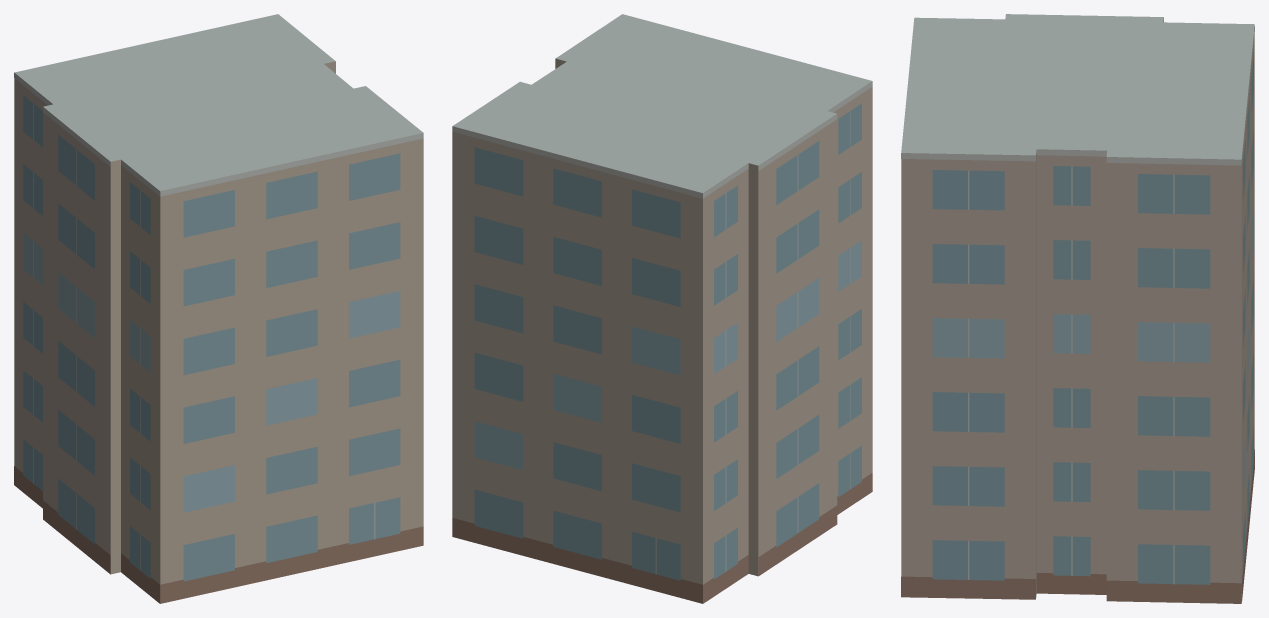
The model's file is survey-upis-32928255.glb.
3 views of the same model, side by side, from view 1: azimuth 30°, elevation 25°; view 2: azimuth 150°, elevation 25°; view 3: azimuth 270°, elevation 25° (orthographic). The views are drawn at different scales.
Visible parts, largest first — view 1: survey-upis-32928255.tmp; view 2: survey-upis-32928255.tmp; view 3: survey-upis-32928255.tmp.
Boxes of the visible parts, x1,y1,x2,y2 form: survey-upis-32928255.tmp: (14, 14, 423, 603); survey-upis-32928255.tmp: (452, 14, 872, 603); survey-upis-32928255.tmp: (901, 14, 1254, 603).
Size of the model in its own units: 12.87 by 18.3 by 13.21.
